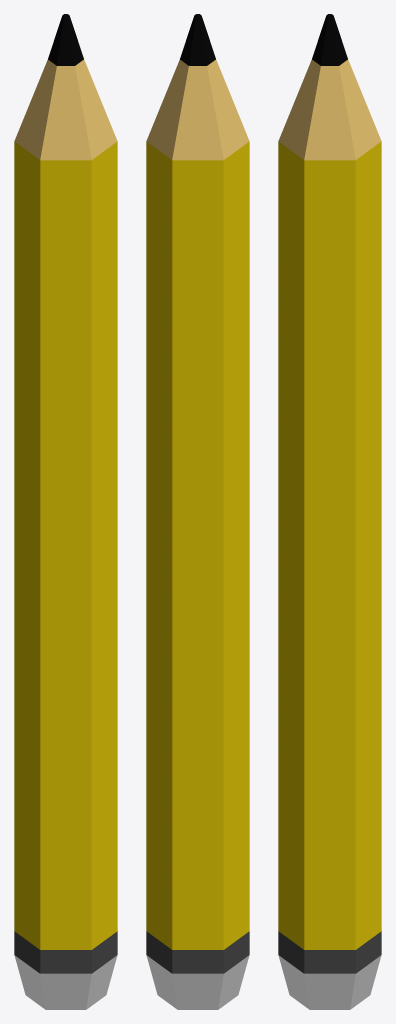
The picture shows the model from 3 angles, left to right: view 1: azimuth 90°, elevation 25°; view 2: azimuth 150°, elevation 25°; view 3: azimuth 270°, elevation 25°; orthographic projection.
Parts seen in each view (by area): view 1: Cylinder; view 2: Cylinder; view 3: Cylinder.
Part boxes in pixels (x1,y1,x2,y2): Cylinder: (14, 14, 117, 1009); Cylinder: (146, 14, 249, 1009); Cylinder: (278, 14, 381, 1009).
Bounding box in the file's own units: 59.13 × 715 × 68.28.
